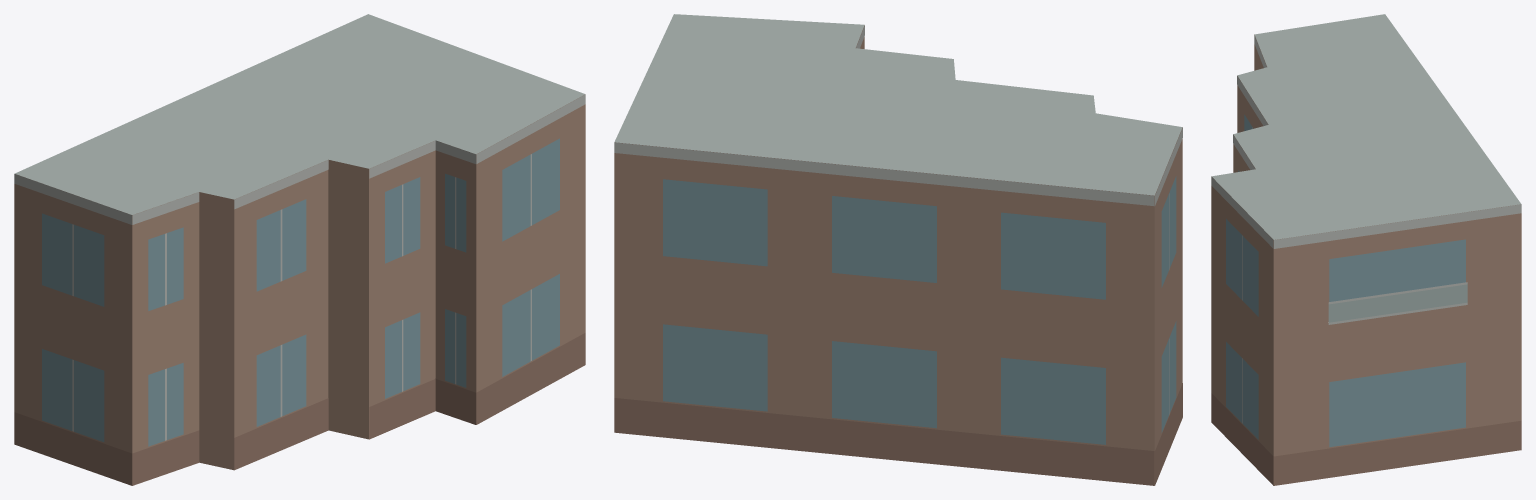
Rendered from survey-upis-32674020.glb.
The picture shows the model from 3 angles, left to right: view 1: azimuth 30°, elevation 25°; view 2: azimuth 150°, elevation 25°; view 3: azimuth 270°, elevation 25°; orthographic projection. The views are drawn at different scales.
Parts seen in each view (by area): view 1: survey-upis-32674020.tmp; view 2: survey-upis-32674020.tmp; view 3: survey-upis-32674020.tmp.
Boxes of the visible parts, bbox=[...] form: survey-upis-32674020.tmp: bbox=[14, 14, 585, 485]; survey-upis-32674020.tmp: bbox=[614, 14, 1182, 485]; survey-upis-32674020.tmp: bbox=[1211, 14, 1521, 485].
Bounding box in the file's own units: 13.02 × 6.6 × 7.55.
